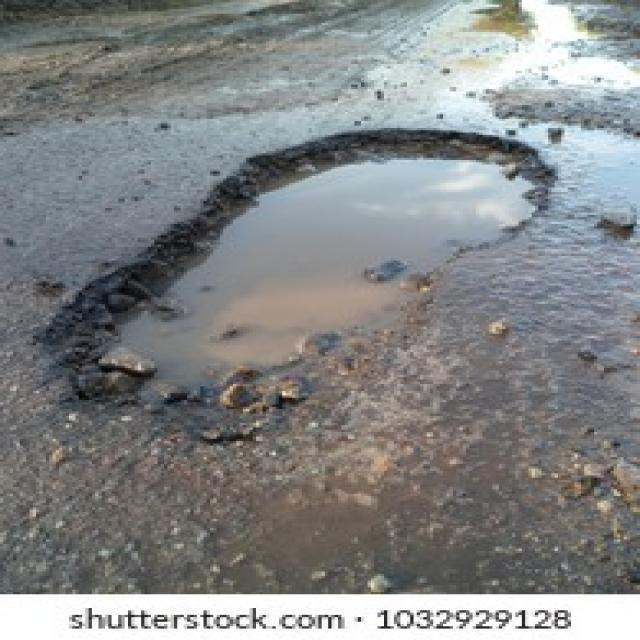pothole: (36, 126, 558, 435)
